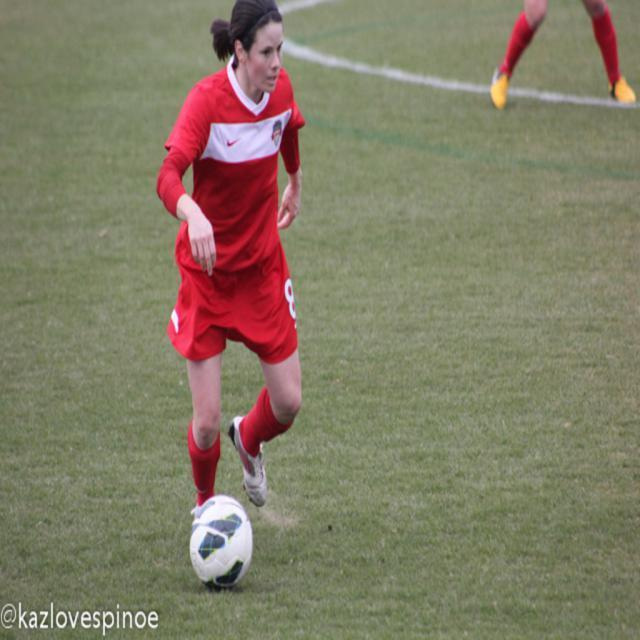football: (173, 481, 274, 614)
